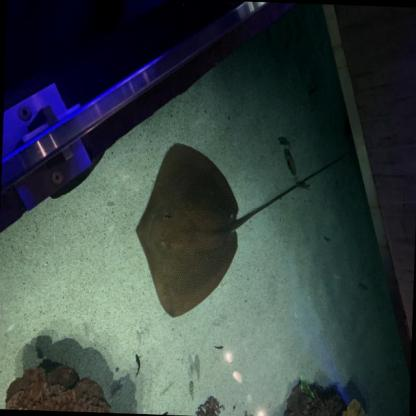fish: (286, 152, 296, 176), (187, 380, 197, 399), (214, 340, 225, 355), (134, 353, 140, 378), (157, 410, 169, 414)
stingray: (133, 141, 241, 320)
